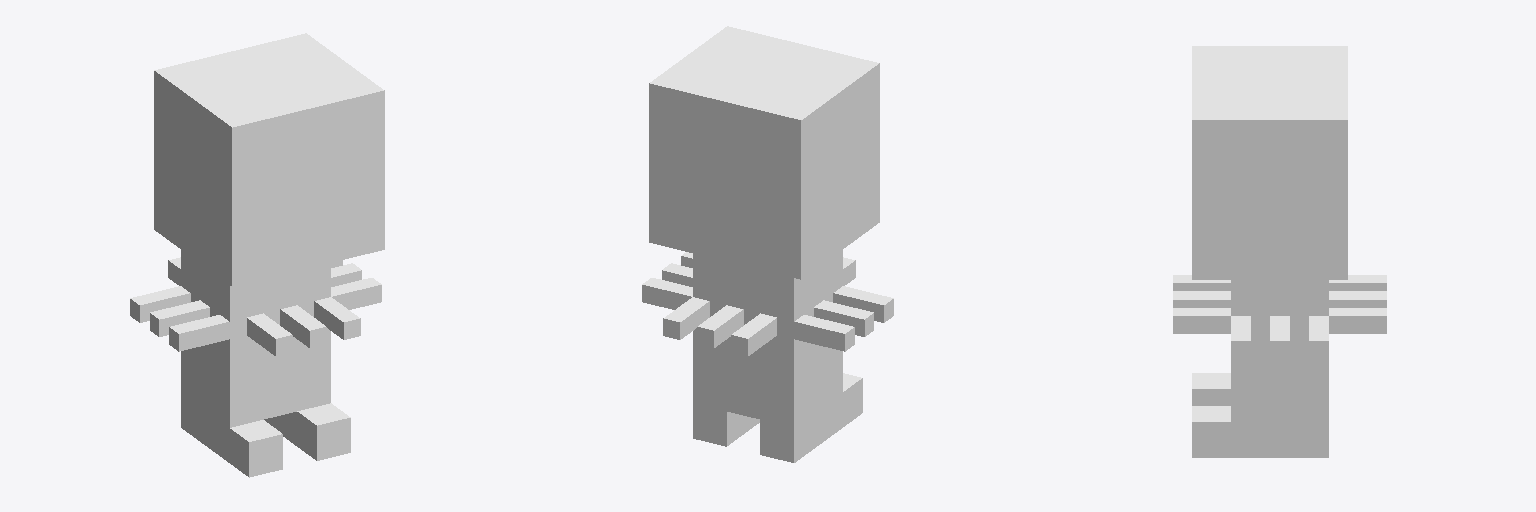
Rendered from spinesEnemy.obj.
3 renders of one model, left to right at view 1: azimuth 30°, elevation 25°; view 2: azimuth 150°, elevation 25°; view 3: azimuth 270°, elevation 25°, orthographic.
Visible parts, largest first — view 1: object 1; view 2: object 1; view 3: object 1.
Part boxes in pixels (bbox=[...]): object 1: bbox=[130, 33, 384, 477]; object 1: bbox=[642, 26, 893, 462]; object 1: bbox=[1173, 46, 1386, 457].
Size of the model in its own units: 1.2 by 2 by 1.1.